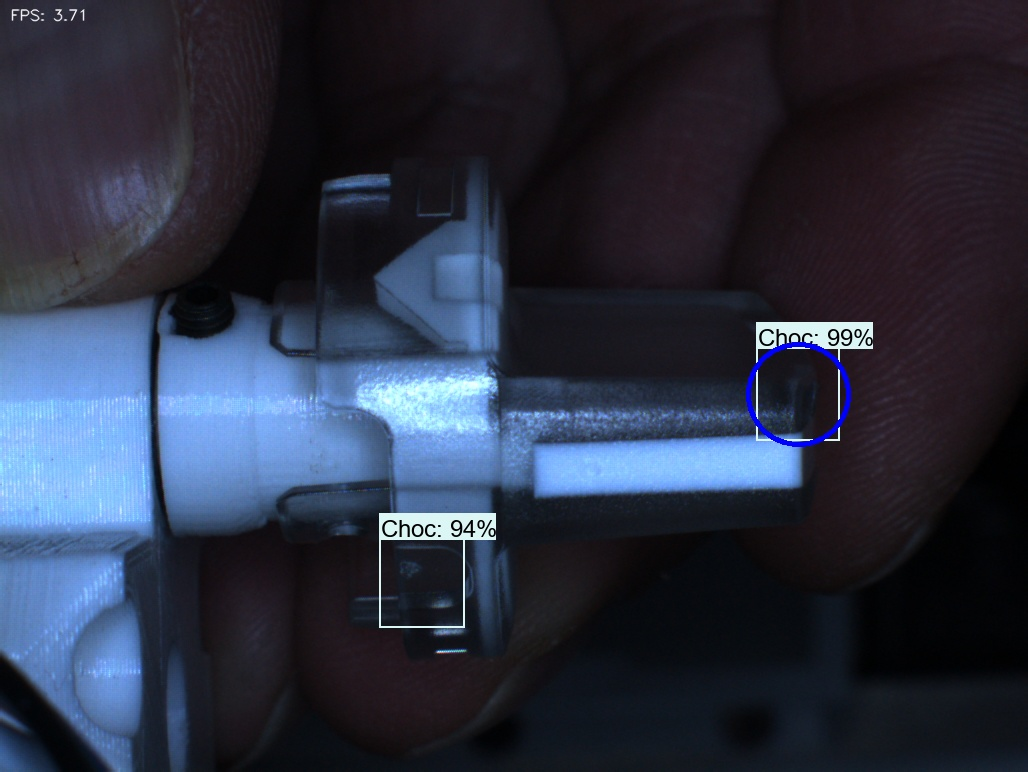DentOk: (347, 244, 422, 340)
